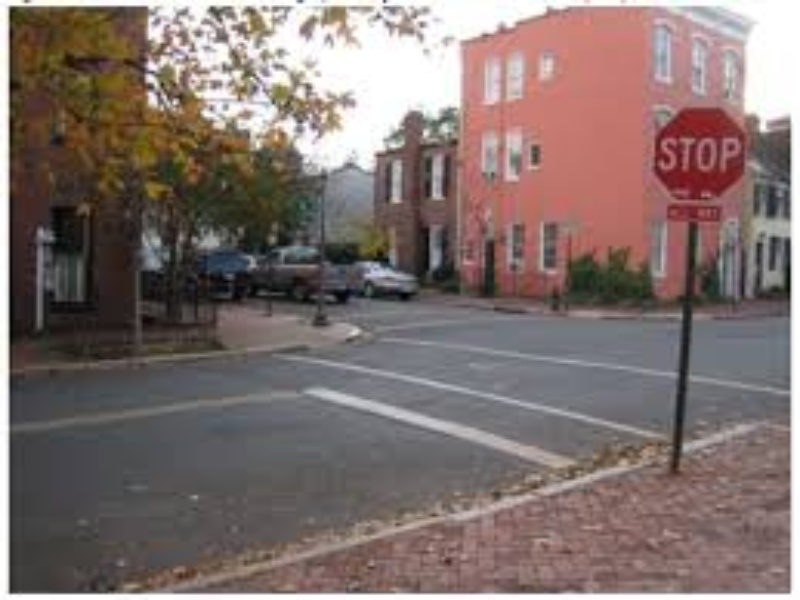stop sign: (650, 101, 747, 203)
